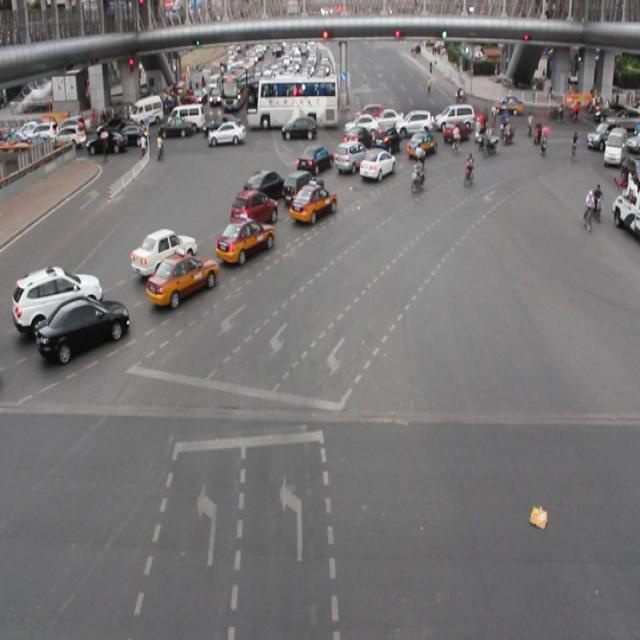car: (12, 264, 102, 332), (36, 294, 130, 358), (145, 252, 220, 304), (131, 226, 197, 276), (214, 217, 274, 265), (288, 182, 337, 228), (230, 188, 277, 228), (242, 168, 286, 208), (282, 169, 324, 206), (333, 137, 371, 176), (358, 145, 395, 182), (296, 144, 333, 177), (403, 128, 436, 160), (369, 122, 401, 154), (343, 124, 370, 153), (442, 117, 469, 145)
